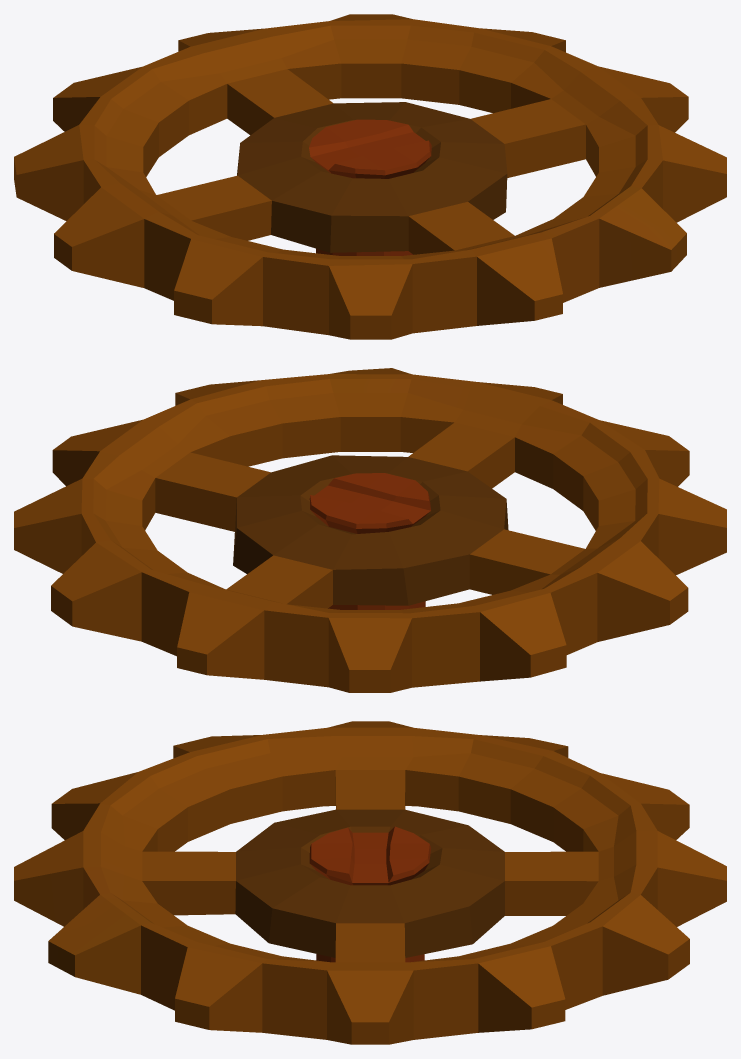
The model's file is Gear Big.glb.
The picture shows the model from 3 angles, top to bottom: view 1: azimuth 30°, elevation 25°; view 2: azimuth 150°, elevation 25°; view 3: azimuth 270°, elevation 25°; orthographic projection.
Parts seen in each view (by area): view 1: GearBig; view 2: GearBig; view 3: GearBig.
Part boxes in pixels (box(x1,y1,x2,y2)): GearBig: box(14, 14, 726, 339); GearBig: box(14, 368, 726, 692); GearBig: box(14, 721, 726, 1044).
Size of what is drawn, in the model's own units: 1.19 by 0.3018 by 1.19.
1 material, 1 textured.
